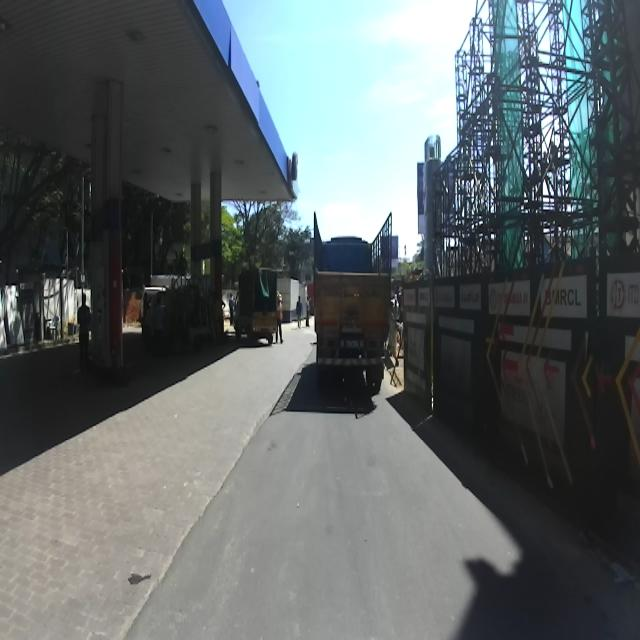car ahead at: (232, 262, 279, 358)
truck ahead at: (308, 198, 398, 392)
